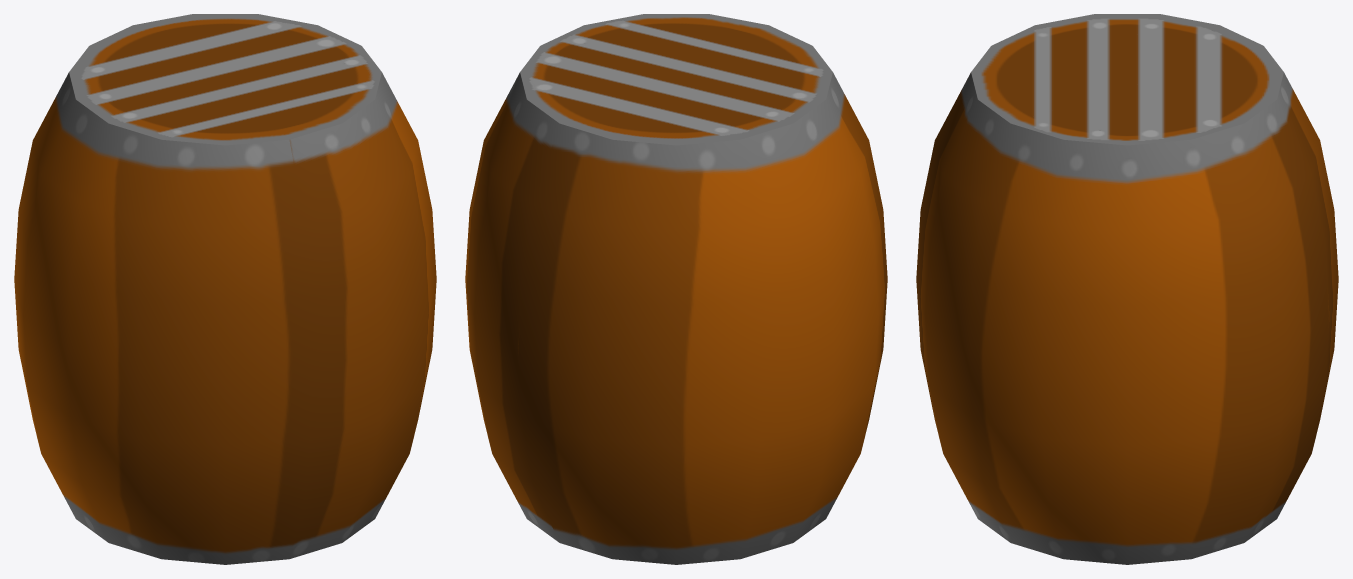
Rendered from saabarrel2.dae.
3 renders of one model, left to right at view 1: azimuth 30°, elevation 25°; view 2: azimuth 150°, elevation 25°; view 3: azimuth 270°, elevation 25°, orthographic.
Visible parts, largest first — view 1: Cylinder001; view 2: Cylinder001; view 3: Cylinder001.
Boxes of the visible parts, left/top/right/bottom form: Cylinder001: left=14, top=14, right=436, bottom=564; Cylinder001: left=465, top=14, right=887, bottom=564; Cylinder001: left=916, top=14, right=1338, bottom=564.
Bounding box in the file's own units: 43.96 × 48.43 × 44.21.
